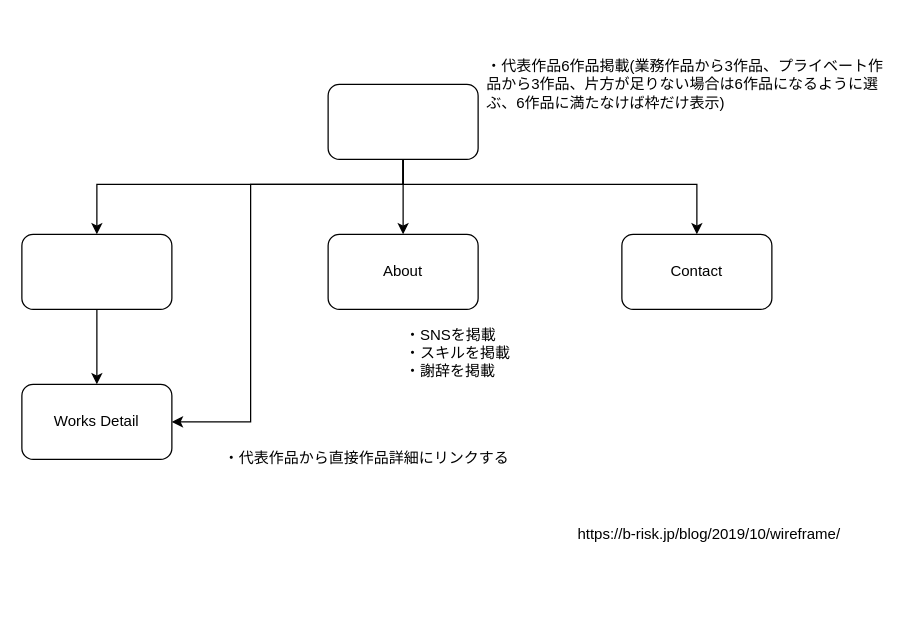
The diagram is 919 pixels wide and 643 high, and some of its shapes have lost their labels. The centre of each missing label's shape, as x and y in pixels:
TOP: [402,121]
Works: [96,271]
